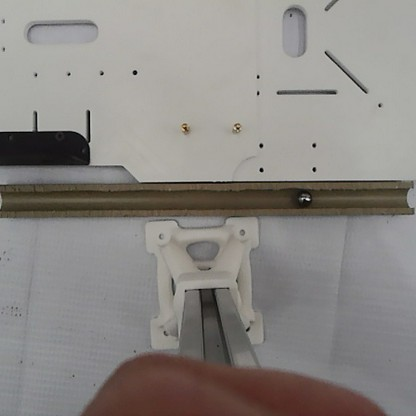ironball: (293, 188, 312, 206)
